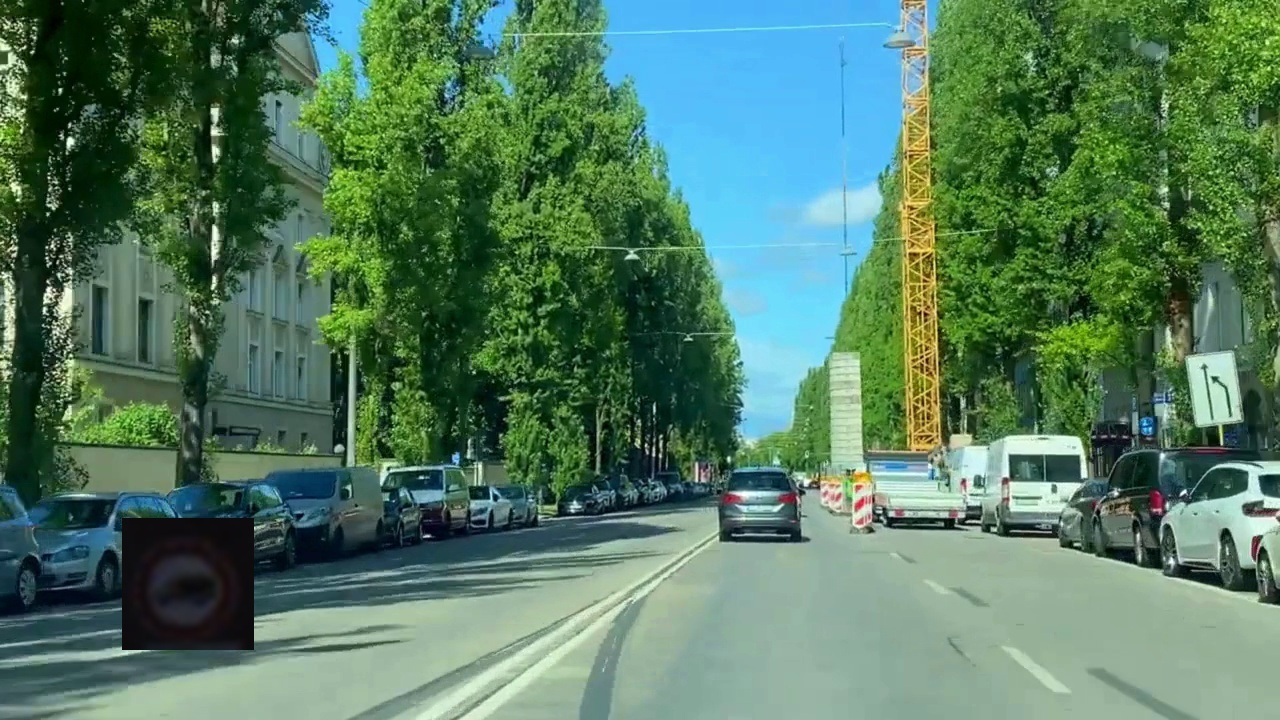Veh >3.5t prohib: (122, 518, 254, 650)
